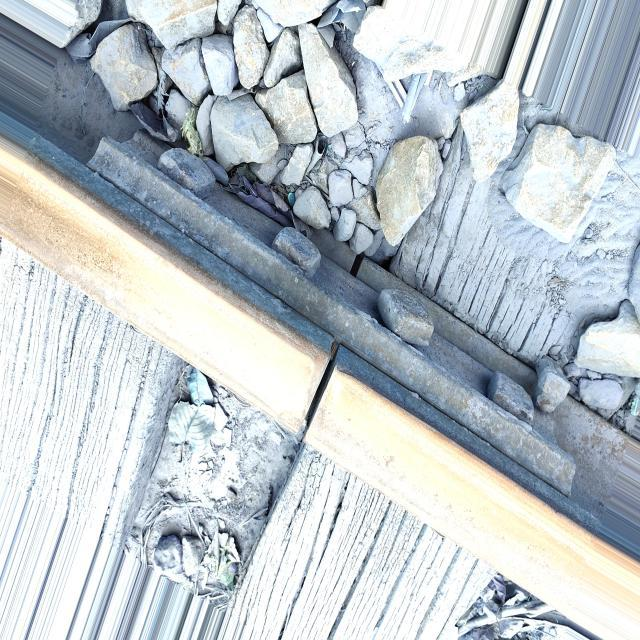Good Joint: (88, 131, 575, 496)
